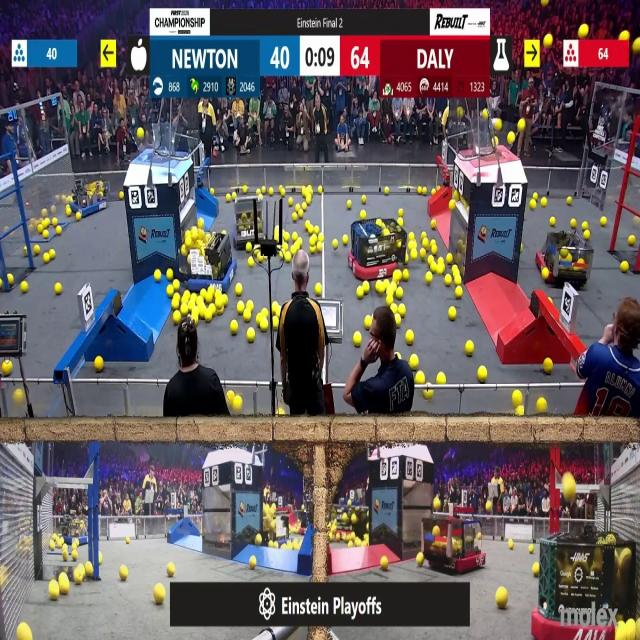ball_airborne: (562, 476, 575, 500), (543, 34, 551, 48), (578, 25, 586, 39), (432, 497, 440, 510), (506, 132, 514, 144), (634, 38, 640, 54), (620, 32, 630, 41), (518, 119, 526, 130), (494, 118, 501, 130), (457, 107, 464, 118), (492, 138, 499, 147), (138, 129, 144, 139), (486, 501, 492, 511), (540, 0, 547, 8), (483, 109, 489, 118)
ball_ground: (496, 588, 507, 609), (156, 586, 167, 605), (19, 624, 32, 640), (60, 578, 70, 596), (49, 583, 58, 600), (542, 358, 552, 373), (478, 365, 488, 380), (411, 354, 420, 370), (513, 391, 523, 405), (536, 398, 546, 412), (74, 570, 84, 584), (2, 361, 12, 375), (119, 565, 127, 580), (377, 281, 386, 294), (96, 356, 104, 370), (465, 342, 473, 356), (354, 334, 362, 348), (168, 562, 176, 576), (407, 332, 415, 346), (247, 328, 255, 342), (87, 564, 95, 578), (416, 372, 425, 384), (173, 311, 181, 324), (363, 316, 371, 329), (262, 319, 270, 332), (250, 556, 257, 570), (232, 320, 239, 334), (235, 396, 242, 410), (449, 308, 457, 320), (236, 283, 244, 295), (14, 390, 22, 402), (183, 301, 191, 313), (215, 304, 223, 316), (417, 554, 424, 567), (532, 563, 539, 576), (438, 373, 446, 384), (394, 271, 402, 282), (316, 242, 324, 253), (541, 269, 548, 281), (622, 262, 629, 274), (381, 558, 388, 570), (244, 310, 251, 322), (362, 282, 369, 294), (168, 285, 175, 297), (238, 302, 245, 314), (173, 280, 180, 292), (173, 299, 180, 311), (190, 310, 197, 322), (628, 236, 636, 246), (424, 390, 432, 400), (454, 276, 462, 286), (386, 294, 394, 304), (205, 312, 213, 322), (438, 266, 446, 276), (206, 292, 214, 302), (56, 283, 63, 294), (167, 270, 174, 281), (22, 282, 29, 293), (356, 287, 363, 298), (316, 283, 322, 295), (273, 318, 279, 330), (273, 303, 279, 315), (246, 302, 253, 312), (530, 200, 537, 210), (517, 408, 524, 418), (539, 198, 546, 208), (446, 276, 453, 286), (283, 232, 290, 242), (309, 237, 316, 247), (402, 270, 408, 281), (154, 271, 160, 282), (456, 286, 462, 297), (398, 306, 404, 317), (395, 315, 401, 326), (7, 275, 13, 286), (412, 249, 418, 260), (430, 264, 436, 275), (221, 294, 227, 305), (255, 534, 261, 545), (282, 242, 289, 251), (41, 209, 48, 218), (426, 273, 432, 283), (600, 216, 606, 226), (570, 218, 576, 228), (43, 252, 49, 262), (248, 257, 254, 267), (396, 288, 402, 298), (550, 216, 556, 226), (420, 248, 426, 258), (49, 250, 55, 260), (403, 253, 409, 263), (306, 220, 312, 230), (275, 231, 281, 241), (246, 243, 252, 253), (63, 552, 69, 562), (199, 218, 205, 228), (183, 290, 189, 300), (34, 246, 40, 255), (66, 207, 72, 216), (292, 212, 298, 221), (507, 539, 513, 548), (430, 219, 436, 228), (284, 252, 290, 261), (410, 233, 416, 242), (452, 266, 458, 275), (297, 209, 303, 218), (72, 552, 78, 561), (318, 234, 324, 243), (314, 224, 320, 233), (180, 247, 186, 256), (363, 533, 369, 542), (448, 254, 453, 264), (431, 245, 436, 255), (43, 230, 48, 240), (450, 201, 455, 211), (391, 304, 396, 314), (296, 240, 301, 250), (585, 232, 591, 240), (331, 240, 337, 248), (292, 233, 298, 241), (566, 198, 572, 206), (397, 208, 403, 216), (243, 185, 249, 193), (264, 308, 270, 316), (290, 247, 296, 255), (304, 196, 310, 204), (269, 187, 275, 195), (278, 410, 284, 418), (336, 534, 342, 542), (529, 543, 534, 552), (360, 211, 365, 220), (423, 239, 428, 248), (440, 255, 445, 264), (279, 251, 284, 260), (356, 537, 361, 546), (99, 554, 103, 565), (308, 245, 314, 252), (422, 187, 428, 194), (317, 186, 323, 193), (127, 536, 133, 543), (348, 540, 354, 547), (430, 240, 436, 247), (118, 190, 123, 198), (428, 254, 433, 262), (584, 222, 589, 230), (409, 242, 414, 250), (35, 224, 40, 232), (264, 254, 269, 262), (348, 201, 352, 210), (76, 212, 80, 221), (344, 237, 348, 246), (256, 312, 260, 321), (385, 186, 389, 195), (532, 192, 538, 198), (0, 280, 4, 289), (51, 218, 56, 225), (418, 186, 423, 193), (294, 204, 299, 211), (269, 540, 274, 547), (58, 226, 62, 234), (226, 193, 230, 201), (288, 200, 292, 208), (361, 194, 365, 202), (422, 231, 426, 239), (281, 188, 285, 196), (233, 192, 237, 200), (396, 353, 400, 360), (431, 188, 435, 195), (258, 255, 262, 262), (210, 187, 214, 194), (259, 193, 263, 199), (275, 541, 279, 547)
goal: (466, 123, 522, 160), (128, 130, 186, 160)
robot_blue: (182, 228, 236, 291), (234, 196, 263, 249), (72, 176, 110, 216), (60, 517, 89, 547)
robot_red: (534, 535, 607, 638), (426, 517, 489, 576), (350, 218, 405, 279), (538, 229, 591, 289), (334, 505, 361, 541)
